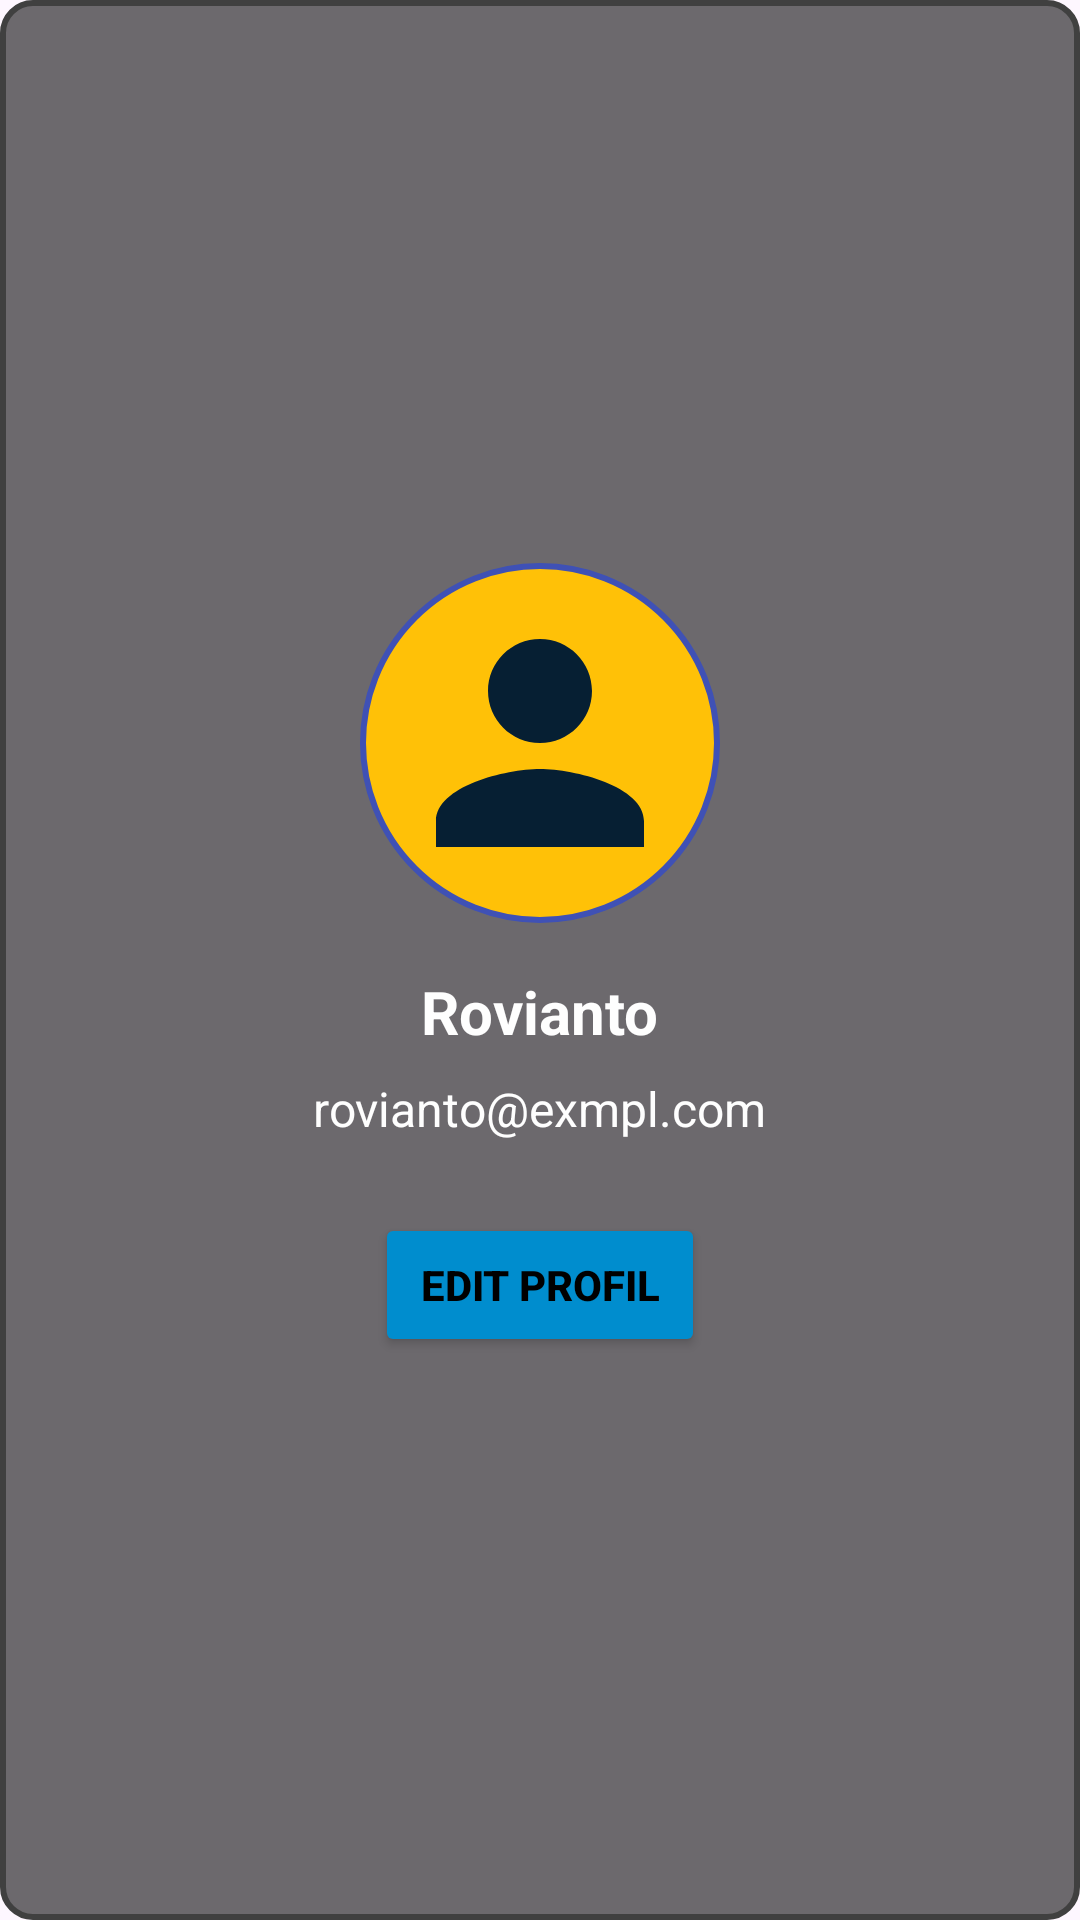

Icons on this 1080x1920 Android screen, each with its box as bbox=[x1, y1, x2, y2]:
Foto Profil: bbox=[360, 563, 720, 923]
